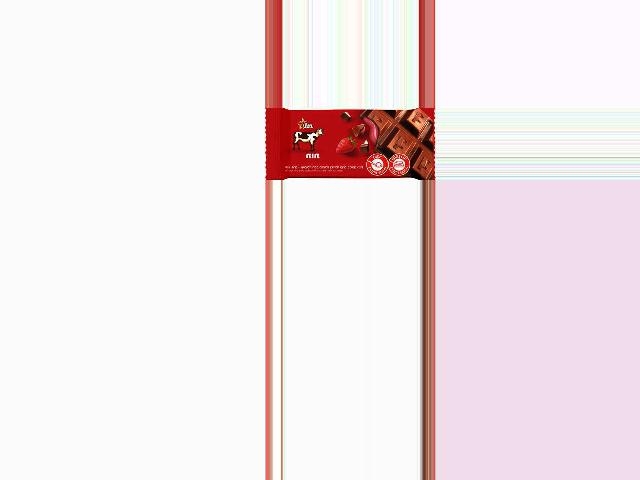chocolate: (264, 108, 433, 180)
